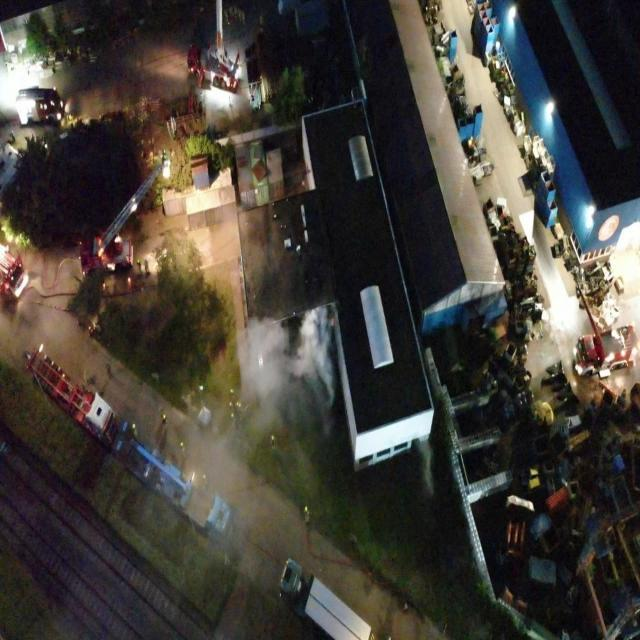Smoke: (189, 297, 340, 564), (416, 432, 434, 500), (285, 162, 309, 195)
